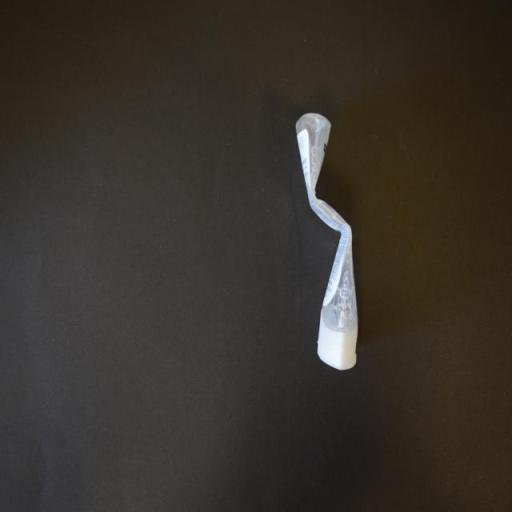plastic: (291, 109, 366, 373)
